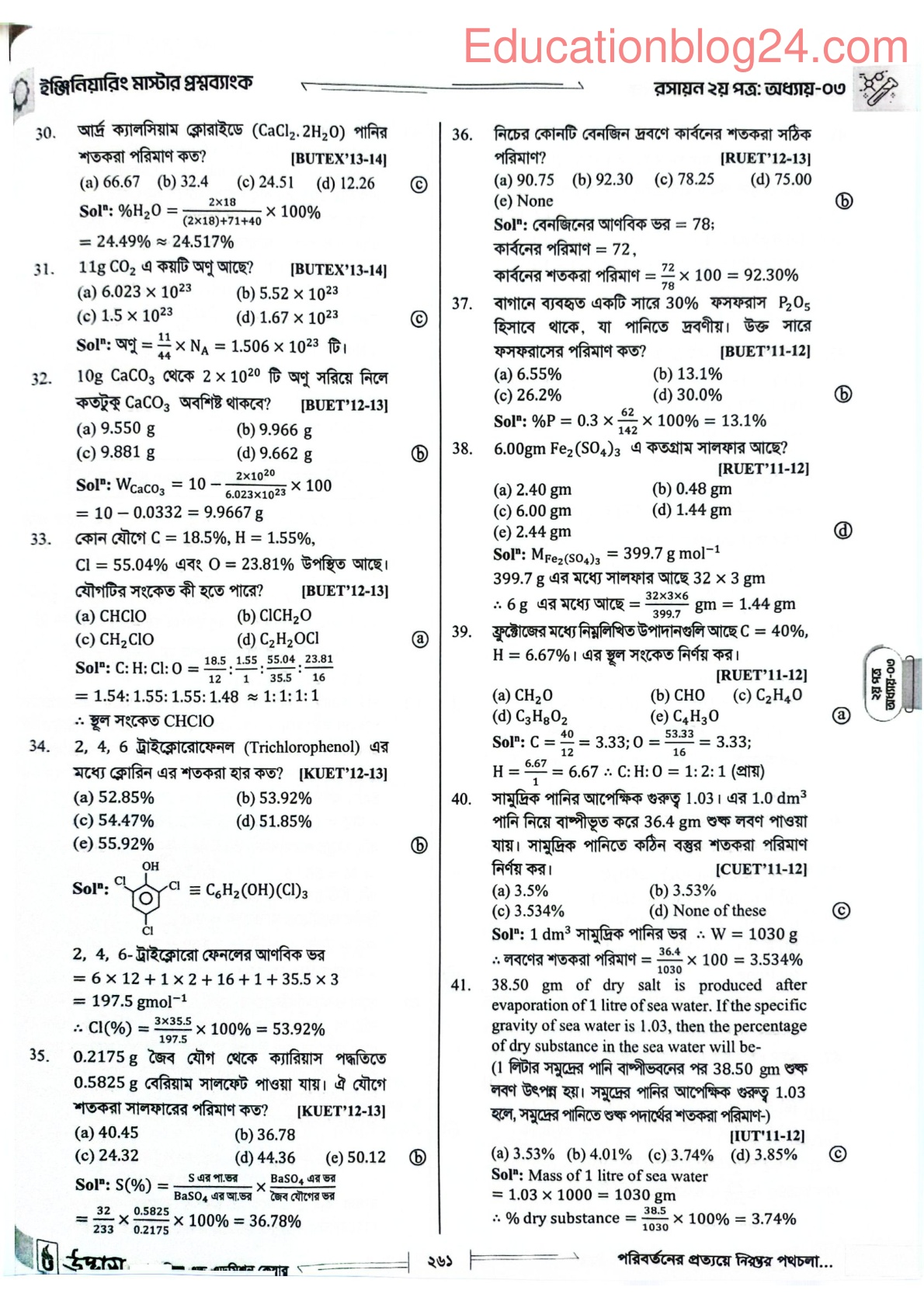question: (444, 971, 824, 1168), (445, 781, 824, 924), (18, 729, 409, 860), (25, 524, 403, 653), (21, 1042, 412, 1166), (447, 286, 822, 413), (446, 614, 827, 729), (447, 437, 821, 546), (26, 362, 403, 468), (448, 121, 822, 215), (30, 117, 398, 202), (29, 254, 402, 331)
